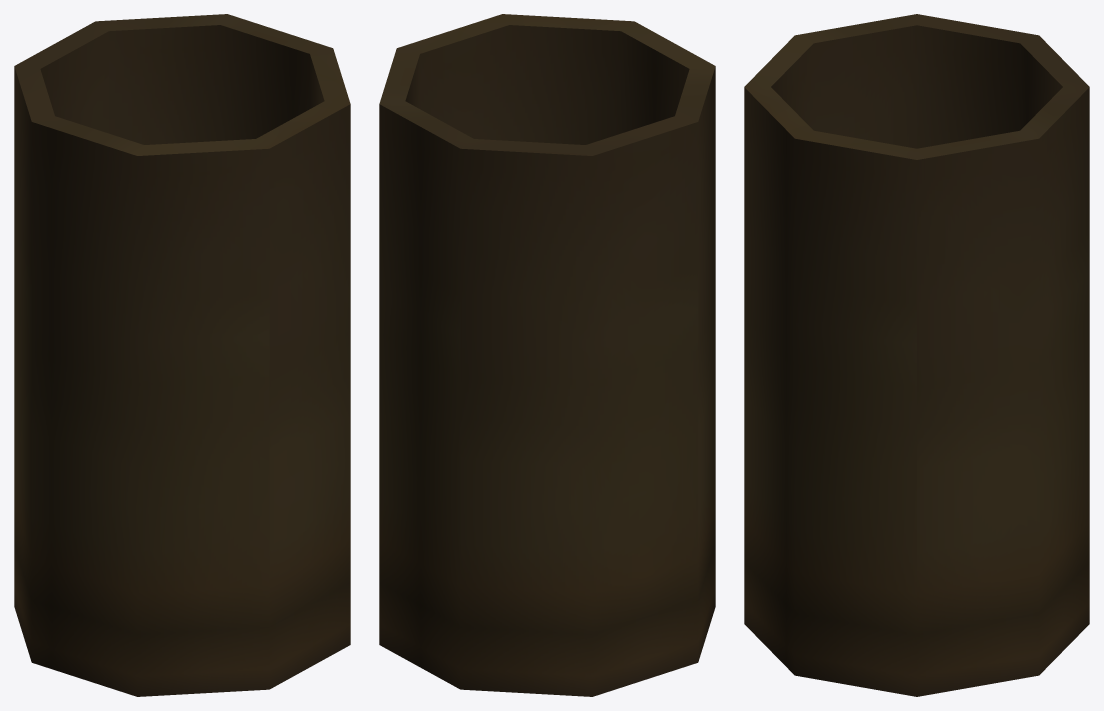
File: ammo_pistol_loose_mp_1_casing.obj
3 views of the same model, side by side, from view 1: azimuth 30°, elevation 25°; view 2: azimuth 150°, elevation 25°; view 3: azimuth 270°, elevation 25° (orthographic).
Parts seen in each view (by area): view 1: ammo_pistol_loose_mp_1_casing; view 2: ammo_pistol_loose_mp_1_casing; view 3: ammo_pistol_loose_mp_1_casing.
Boxes of the visible parts, left/top/right/bottom form: ammo_pistol_loose_mp_1_casing: left=14, top=14, right=350, bottom=696; ammo_pistol_loose_mp_1_casing: left=379, top=14, right=715, bottom=696; ammo_pistol_loose_mp_1_casing: left=744, top=14, right=1089, bottom=696.
Size of the model in its own units: 0.448 by 0.768 by 0.448.
1 material, 1 textured.
